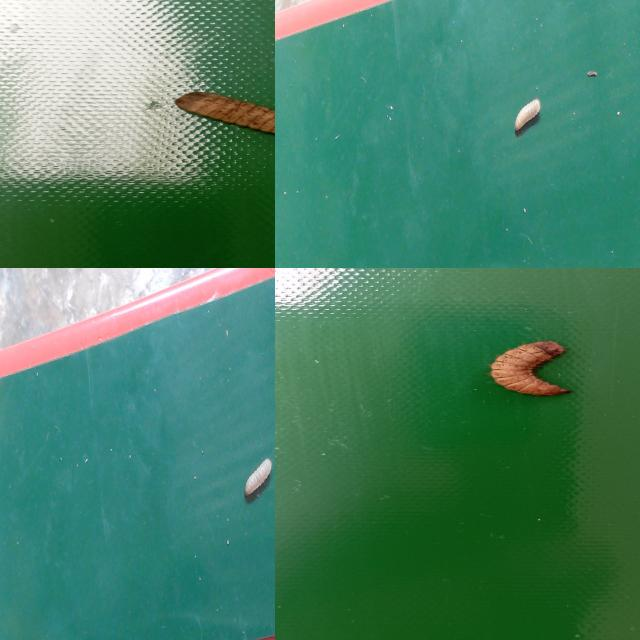Maggot: (174, 93, 275, 139), (489, 341, 568, 399), (243, 459, 274, 504), (513, 99, 541, 136)
